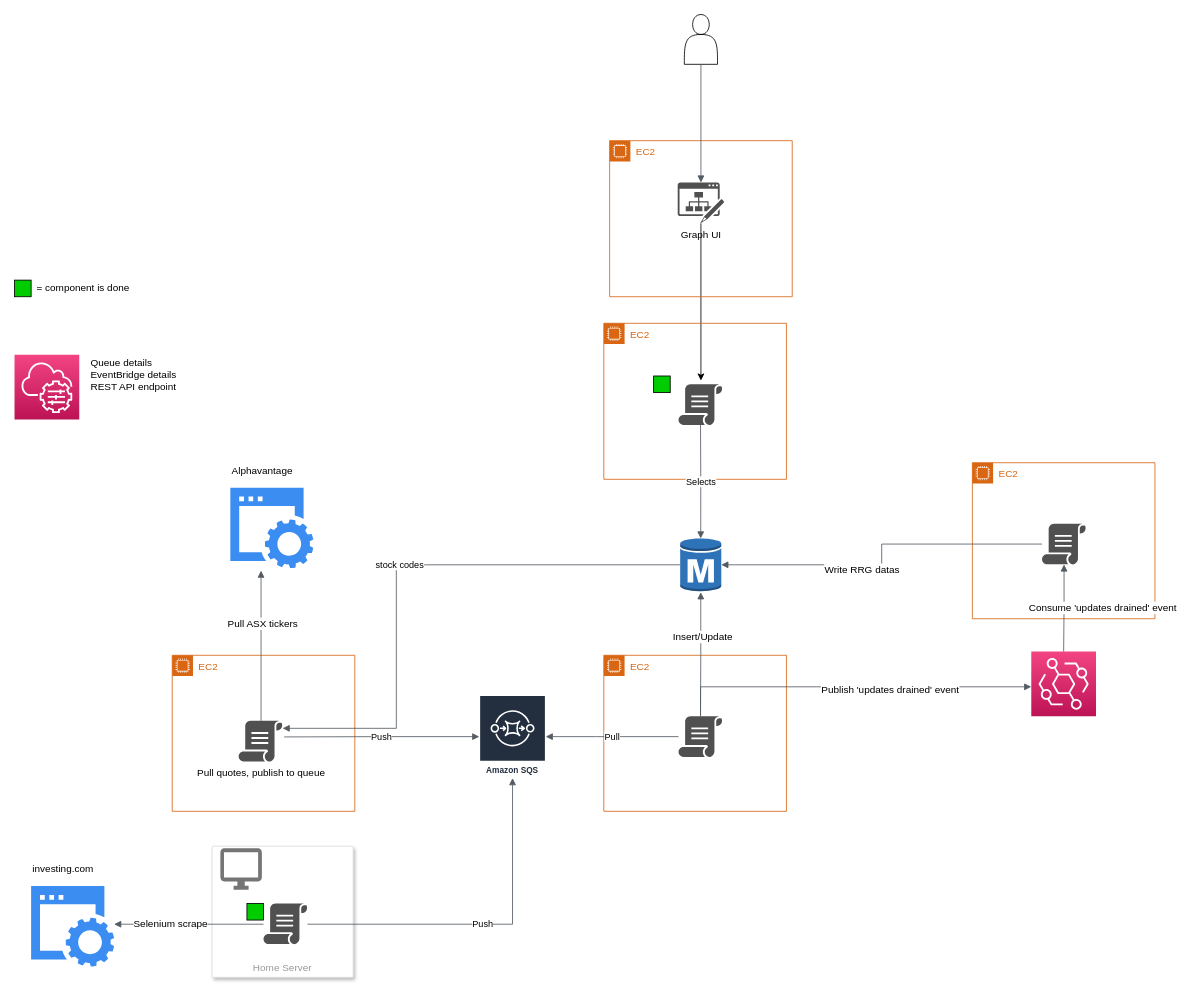
Some shapes in this 1191 by 998 pixel diagram are drawn without their labels. Each missing label, with the centre of its shape:
Insert/update quotes in RDS: the point at 700,736
Normalise,JdK RS-Ratio, calculate rate of change,: the point at 1064,543
REST API: the point at 700,404
Scrape sector quotes: the point at 285,923
